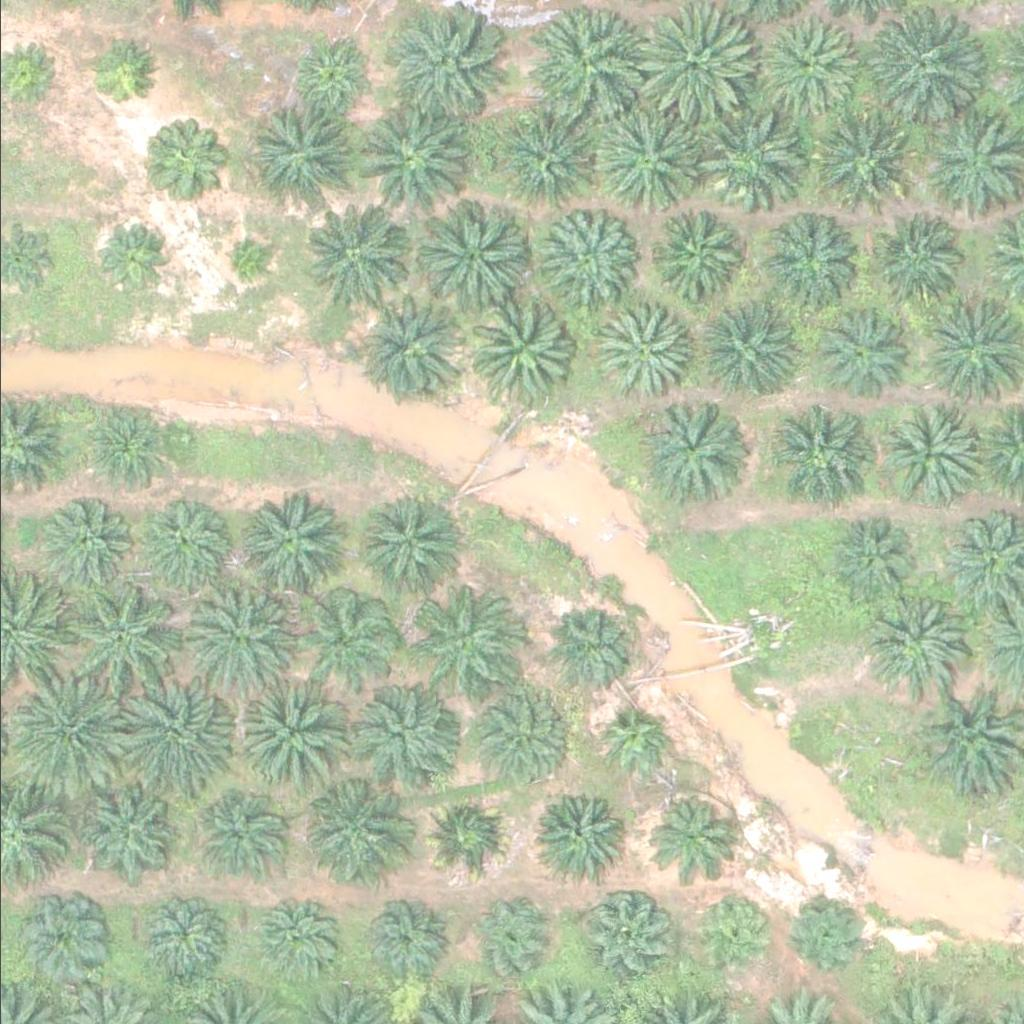Kelapa_Sawit: (10, 680, 123, 793), (121, 680, 234, 793), (239, 679, 352, 792), (354, 680, 467, 793), (179, 577, 292, 690), (414, 196, 527, 309), (297, 193, 410, 306), (533, 11, 646, 124), (385, 8, 498, 121), (697, 101, 810, 214), (864, 8, 977, 121), (354, 100, 468, 212), (595, 104, 709, 216), (643, 6, 757, 118), (295, 776, 408, 888), (65, 584, 178, 696), (462, 292, 575, 404), (354, 289, 467, 401), (245, 105, 358, 217), (9, 887, 110, 987), (69, 779, 170, 879), (409, 581, 510, 681), (297, 587, 398, 687), (143, 493, 244, 593), (235, 493, 336, 593), (361, 499, 462, 599), (637, 396, 738, 496), (588, 303, 689, 403), (643, 201, 744, 301), (535, 208, 636, 308), (865, 590, 966, 690), (879, 399, 980, 499), (755, 17, 856, 117), (131, 888, 231, 988), (475, 688, 575, 788), (42, 496, 142, 596), (687, 301, 787, 401), (498, 115, 598, 215), (770, 405, 870, 505), (811, 301, 911, 401), (766, 213, 866, 313), (870, 210, 970, 310), (920, 116, 1020, 216), (807, 108, 907, 208), (284, 32, 372, 120), (684, 890, 772, 978), (466, 894, 554, 982), (354, 895, 442, 983), (249, 895, 337, 983), (546, 603, 634, 691), (147, 117, 235, 205), (583, 892, 671, 979), (642, 794, 730, 881), (537, 790, 625, 877), (91, 215, 179, 302), (419, 790, 507, 877), (198, 787, 286, 874), (88, 402, 176, 489), (783, 892, 871, 979), (830, 516, 918, 603), (592, 706, 668, 781), (83, 37, 158, 112), (214, 234, 264, 284)
